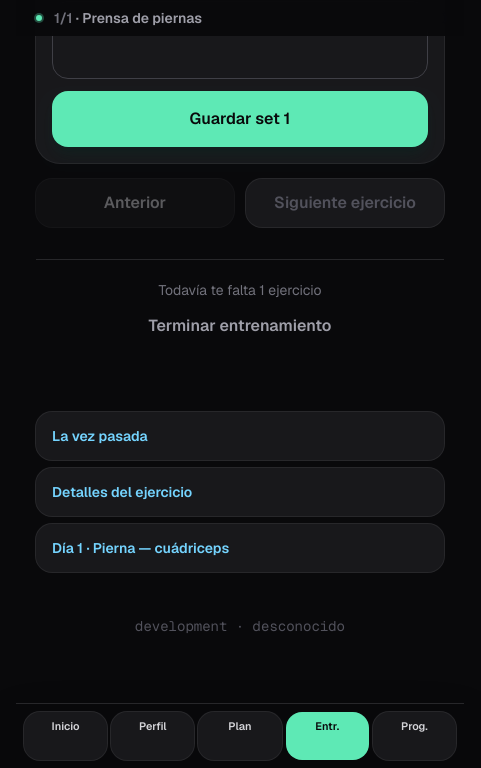
SessionRunner › keeps last session's history collapsed by default, present in the DOM either way
(page scrolled)
Click the heading "La vez pasada".
click(100, 436)  # box [52,427,148,445]
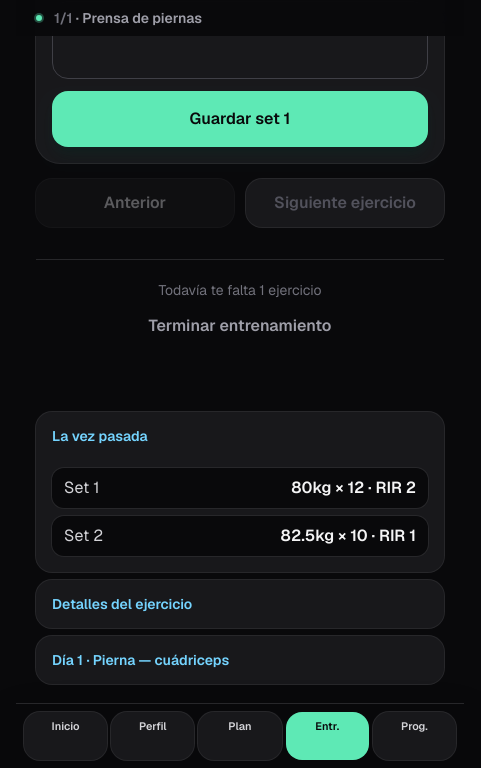
Check: the element showing "82.5kg × 10 · RIR 1" is shown, box [281,524,416,548]
